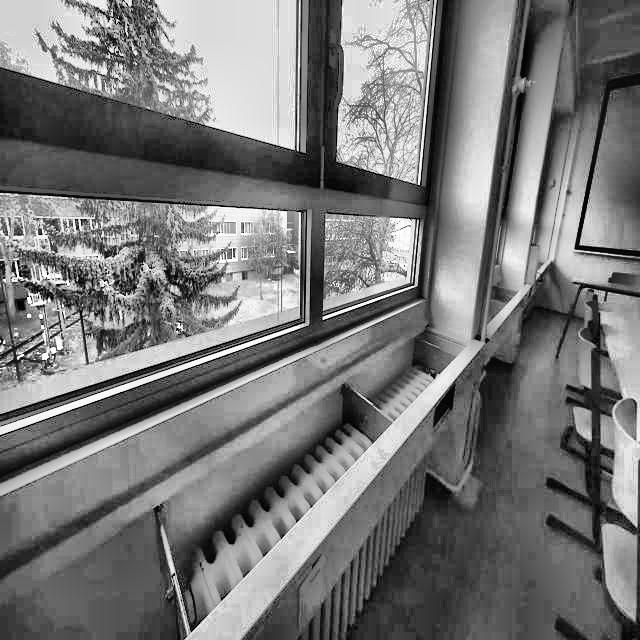ff: (133, 82, 357, 255)
